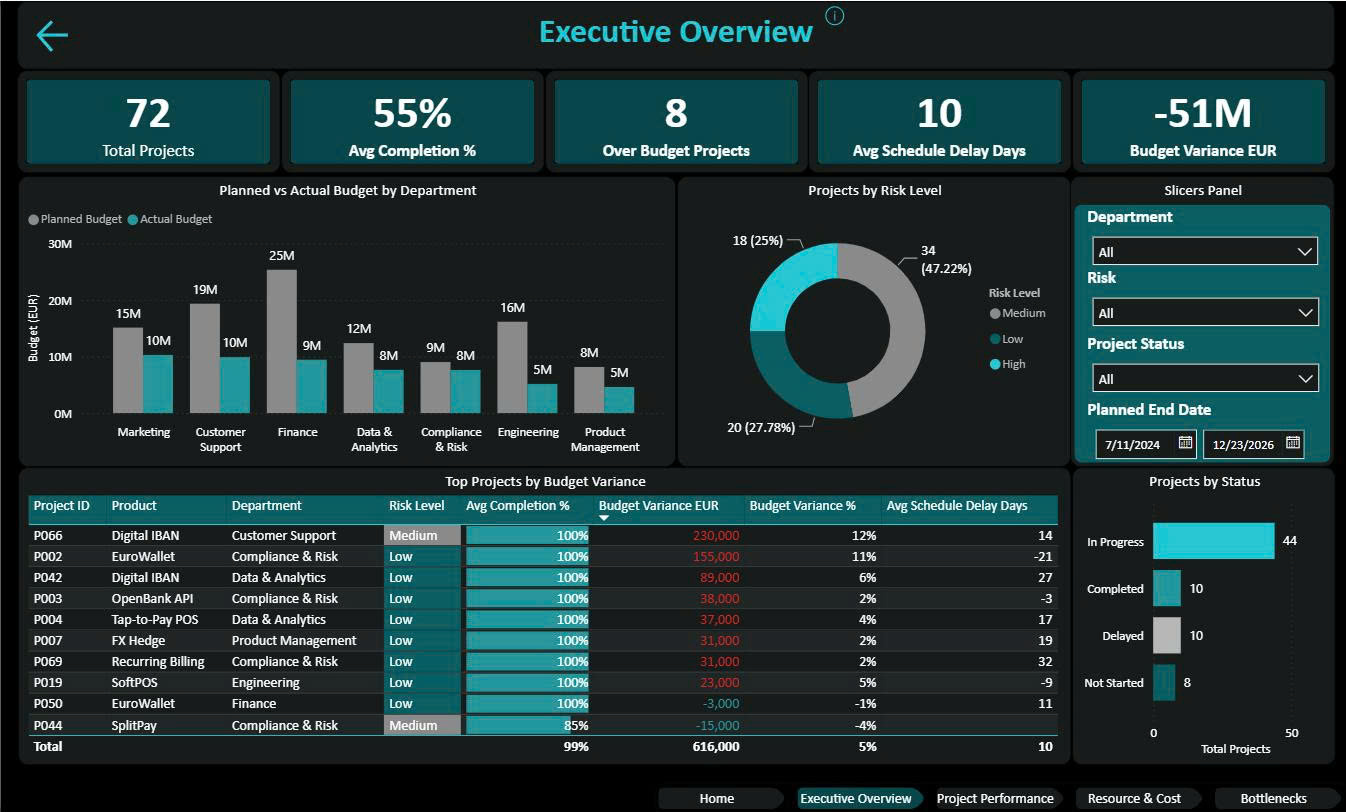

What the dashboard file says about the page in this screenshot:
{"tool":"powerbi","page":{"name":"Executive Overview","canvas":[1280,770],"ordinal":1},"visuals":[{"type":"textbox","box":[15.6,0,1249.8,65.2],"z":0},{"type":"cardVisual","fields":{"Data":["KPI_Measures.Total Projects"]},"box":[15.6,65.2,250,98.2],"z":3000},{"type":"cardVisual","fields":{"Data":["KPI_Measures.Avg Completion %"]},"box":[265.5,65.2,250,98.2],"z":5000},{"type":"cardVisual","fields":{"Data":["KPI_Measures.Over Budget Projects"]},"box":[515.5,65.2,250,98.2],"z":6000},{"type":"cardVisual","fields":{"Data":["KPI_Measures.Avg Schedule Delay Days"]},"box":[765.5,65.2,250,98.2],"z":7000},{"type":"cardVisual","fields":{"Data":["KPI_Measures.Budget Variance EUR"]},"box":[1015.4,65.2,250,98.2],"z":8000},{"type":"clusteredColumnChart","title":"Planned vs Actual Budget by Department","fields":{"Category":["dim_department.department_name"],"Y":["KPI_Measures.Total Planned Budget EUR","KPI_Measures.Total Actual Budget EUR"]},"box":[16,166.1,624,275.8],"z":9000},{"type":"donutChart","title":"Projects by Risk Level","fields":{"Category":["dim_project.risk_level"],"Y":["KPI_Measures.Total Projects"]},"box":[641.1,166.1,373.8,275.8],"z":10000},{"type":"barChart","title":"Projects by Status","fields":{"Category":["dim_project.project_status"],"Y":["KPI_Measures.Total Projects"]},"box":[1016,442,250,283],"z":11000},{"type":"tableEx","title":"Top Projects by Budget Variance","fields":{"Values":["dim_project.project_id","dim_project.product_name","dim_department.department_name","dim_project.risk_level","KPI_Measures.Avg Completion %","KPI_Measures.Budget Variance EUR","KPI_Measures.Budget Variance %","KPI_Measures.Avg Schedule Delay Days"]},"box":[16,441.9,998.9,283.3],"z":12000},{"type":"shape","title":"Slicers Panel","box":[1014,166,251,276],"z":13000},{"type":"slicer","title":"Department","fields":{"Values":["dim_department.department_name"]},"box":[1025.4,194.6,234.3,62.8],"z":14000},{"type":"slicer","title":"Risk ","fields":{"Values":["dim_project.risk_level"]},"box":[1025,252,235,63],"z":15000},{"type":"slicer","title":"Project Status","fields":{"Values":["dim_project.project_status"]},"box":[1025,315,235,63],"z":16000},{"type":"slicer","title":"Planned End Date","fields":{"Values":["dim_project.planned_end_date"]},"box":[1025,377,235,63],"z":17000},{"type":"pageNavigator","box":[619.6,741.2,660.4,29.2],"z":18000},{"type":"actionButton","box":[29,13,121,40],"z":19000},{"type":"actionButton","title":"KPI ON","box":[777,0,28,28],"z":20000}]}

Visuals, with their boxes in screenshot pixels (x1, y1, x2, y2), scaled from the page's 1280x770 canvas onto the 1346x812 screenshot:
textbox: BBox(16, 0, 1331, 69)
cardVisual - KPI_Measures.Total Projects: BBox(16, 69, 279, 172)
cardVisual - KPI_Measures.Avg Completion %: BBox(279, 69, 542, 172)
cardVisual - KPI_Measures.Over Budget Projects: BBox(542, 69, 805, 172)
cardVisual - KPI_Measures.Avg Schedule Delay Days: BBox(805, 69, 1068, 172)
cardVisual - KPI_Measures.Budget Variance EUR: BBox(1068, 69, 1331, 172)
"Planned vs Actual Budget by Department" clusteredColumnChart: BBox(17, 175, 673, 466)
"Projects by Risk Level" donutChart: BBox(674, 175, 1067, 466)
"Projects by Status" barChart: BBox(1068, 466, 1331, 765)
"Top Projects by Budget Variance" tableEx: BBox(17, 466, 1067, 765)
"Slicers Panel" shape: BBox(1066, 175, 1330, 466)
"Department" slicer: BBox(1078, 205, 1325, 271)
"Risk " slicer: BBox(1078, 266, 1325, 332)
"Project Status" slicer: BBox(1078, 332, 1325, 399)
"Planned End Date" slicer: BBox(1078, 398, 1325, 464)
pageNavigator: BBox(652, 782, 1345, 811)
actionButton: BBox(30, 14, 158, 56)
"KPI ON" actionButton: BBox(817, 0, 847, 30)
